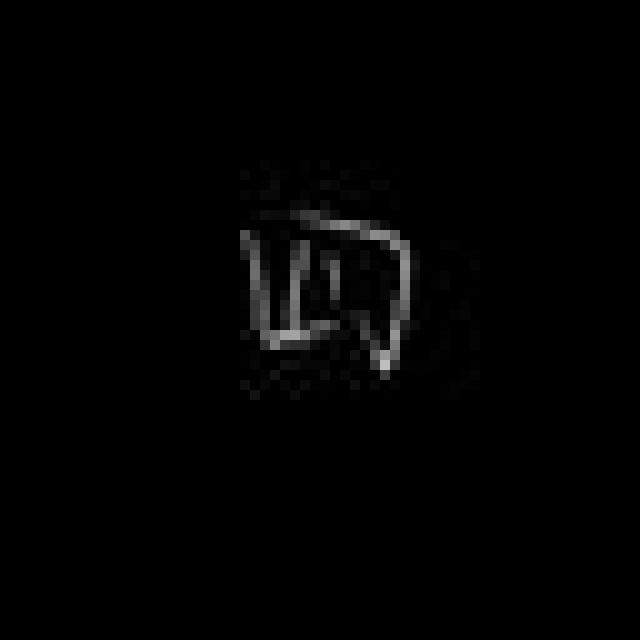4 -four-: (228, 194, 422, 379)
